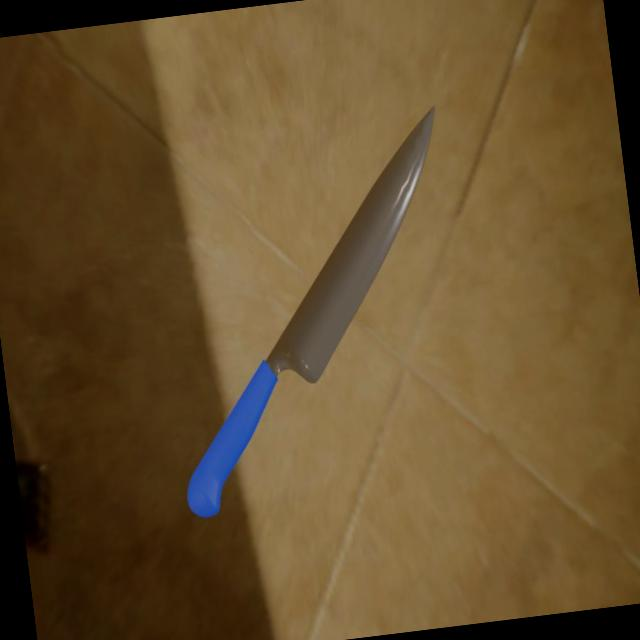knife: (170, 357, 294, 519)
